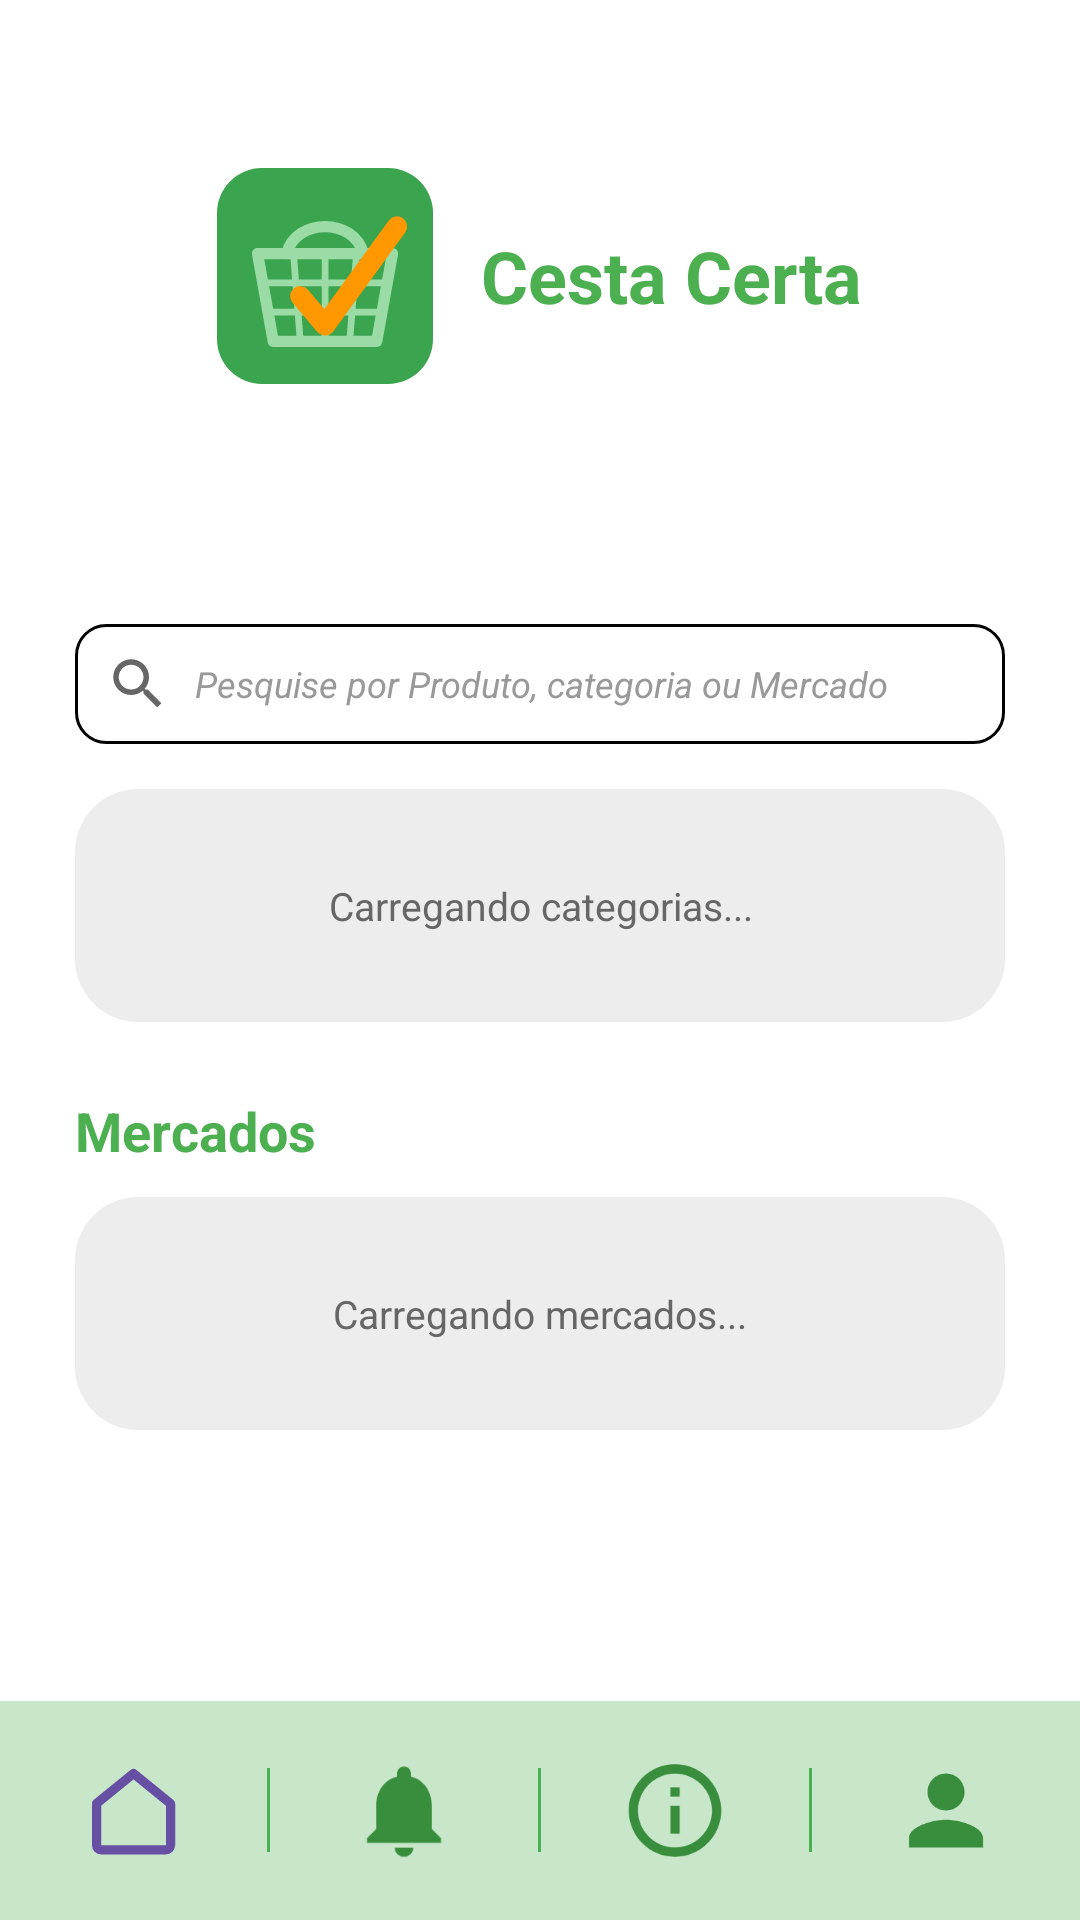

Where to tap for icons on this 1080*1920 app screen, as [x,y]:
Início: [134,1811]
Notificações: [404,1811]
Perfil: [946,1810]
Sobre nós: [675,1810]
